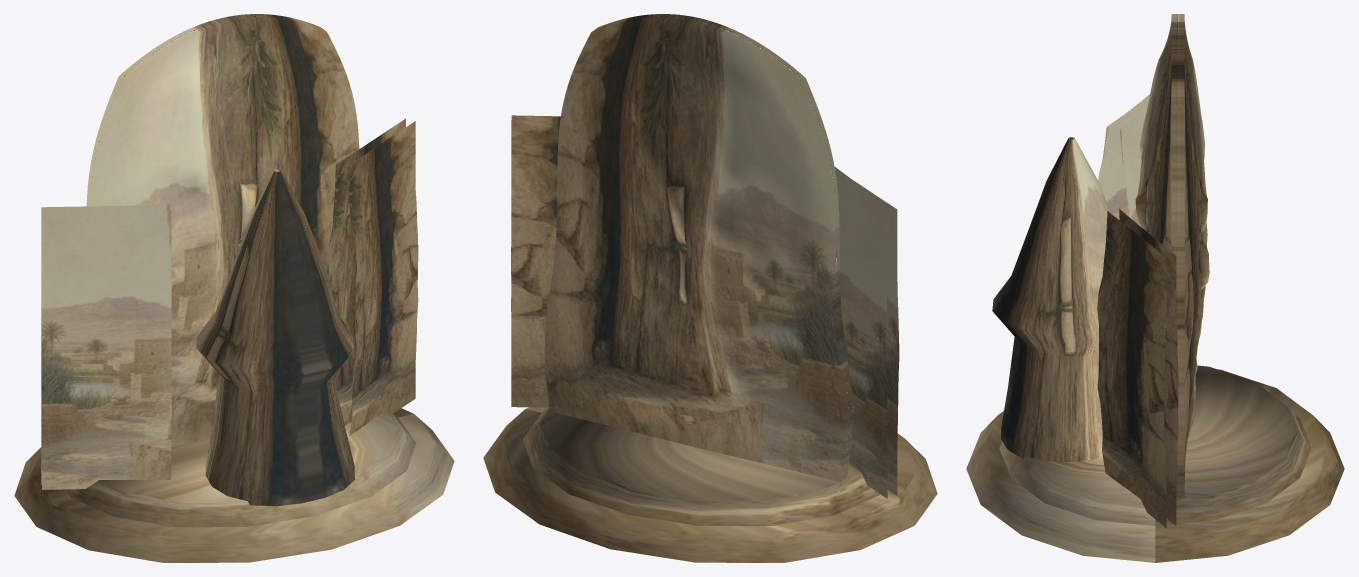
The model's file is choose-life-10.glb.
The picture shows the model from 3 angles, left to right: view 1: azimuth 30°, elevation 25°; view 2: azimuth 150°, elevation 25°; view 3: azimuth 270°, elevation 25°; orthographic projection. The views are drawn at different scales.
Parts seen in each view (by area): view 1: PaintingSculptureMonument; view 2: PaintingSculptureMonument; view 3: PaintingSculptureMonument.
Part boxes in pixels (left/top/right/bottom): PaintingSculptureMonument: left=14, top=14, right=454, bottom=562; PaintingSculptureMonument: left=483, top=14, right=937, bottom=562; PaintingSculptureMonument: left=966, top=14, right=1344, bottom=562.
Size of the model in its own units: 2.76 by 2.99 by 2.35.
1 material, 1 textured.
